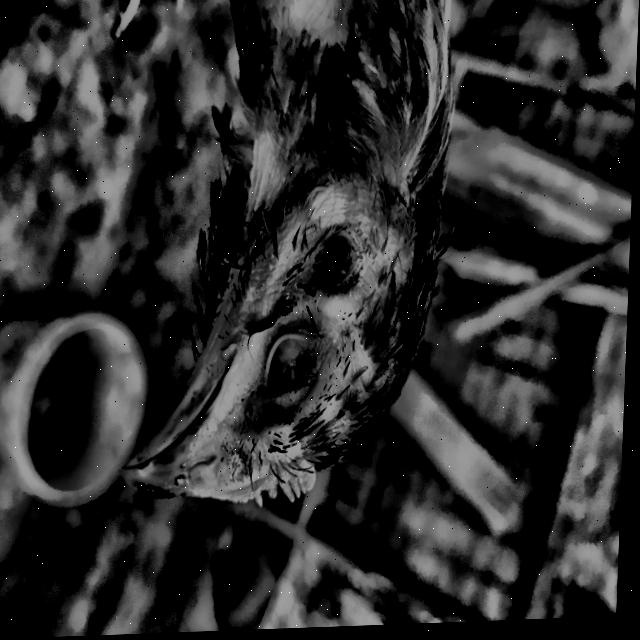Coryza: (46, 140, 438, 560)
